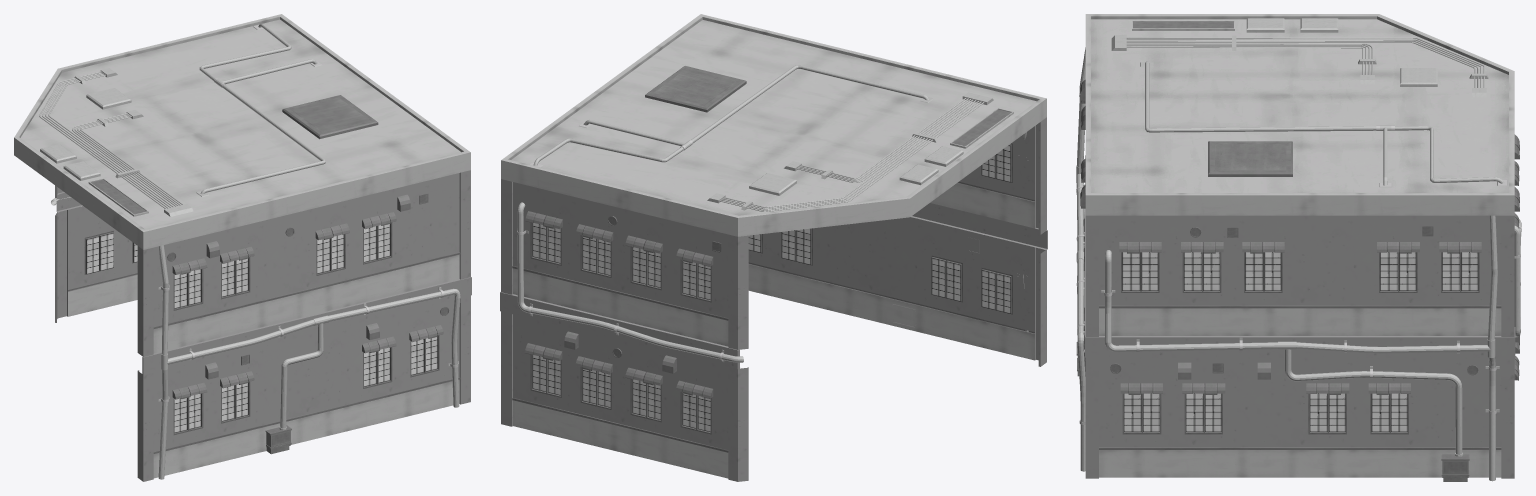
Rendered from REDUCTION_SM_ENV_KNVLLG_CommonBuilding_D_1.mo.fbx.
3 views of the same model, side by side, from view 1: azimuth 30°, elevation 25°; view 2: azimuth 150°, elevation 25°; view 3: azimuth 270°, elevation 25° (orthographic). The views are drawn at different scales.
Parts seen in each view (by area): view 1: REDUCTION_SM_ENV_KNVLLG_CommonBuilding_D_1.mo; view 2: REDUCTION_SM_ENV_KNVLLG_CommonBuilding_D_1.mo; view 3: REDUCTION_SM_ENV_KNVLLG_CommonBuilding_D_1.mo.
Boxes of the visible parts, box(x1,y1,x2,y2) form: REDUCTION_SM_ENV_KNVLLG_CommonBuilding_D_1.mo: box(14, 14, 471, 481); REDUCTION_SM_ENV_KNVLLG_CommonBuilding_D_1.mo: box(500, 14, 1047, 481); REDUCTION_SM_ENV_KNVLLG_CommonBuilding_D_1.mo: box(1076, 14, 1521, 481).
Size of the model in its own units: 19.75 by 14.2 by 19.95.
